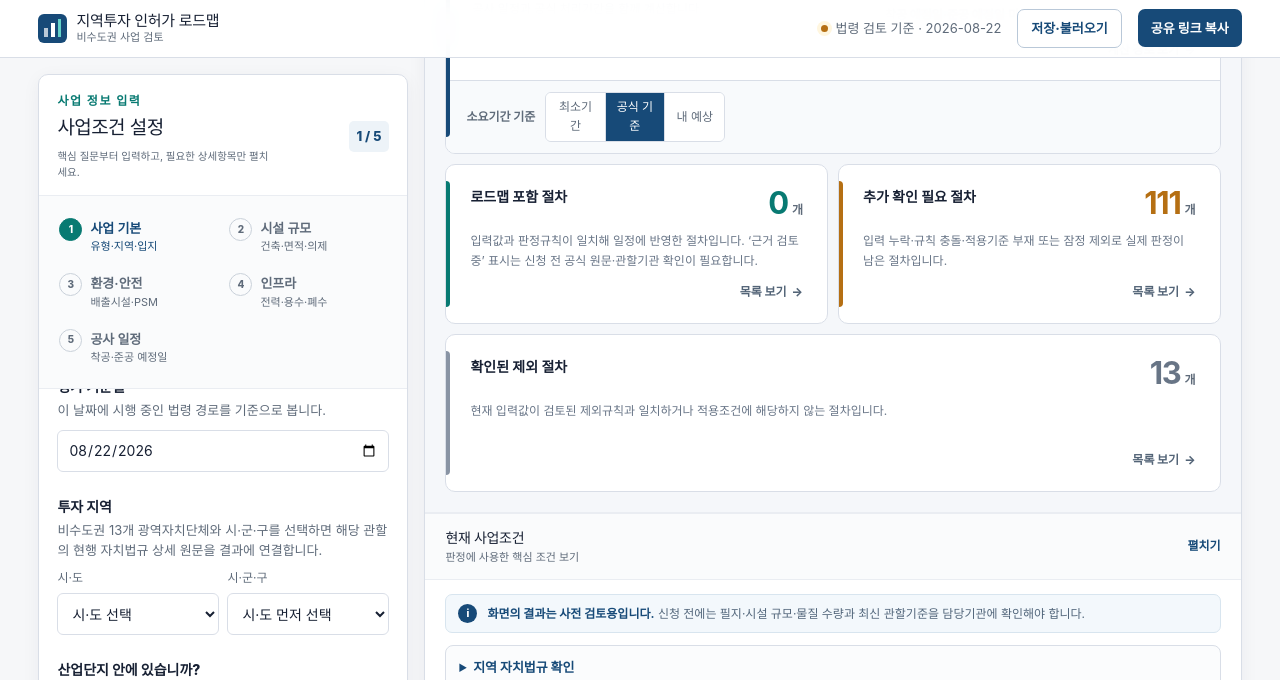
dashboard UI › keeps the current project unchanged when an input-code import fails
The image size is (1280, 680).
(page scrolled)
Select "부산광역시" in the dropdown labelled "시·도" at (138, 614), box [57,593,219,635]
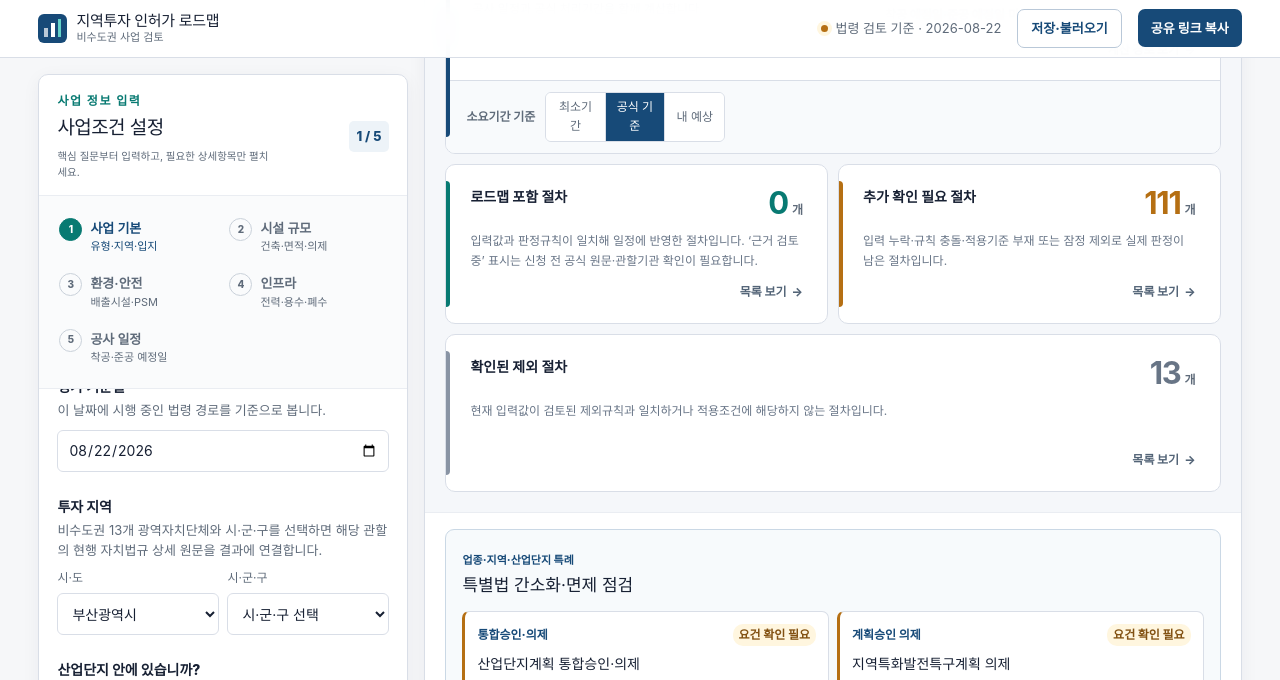
Select "강서구" in the dropdown labelled "시·군·구" at (308, 614), box [227,593,389,635]
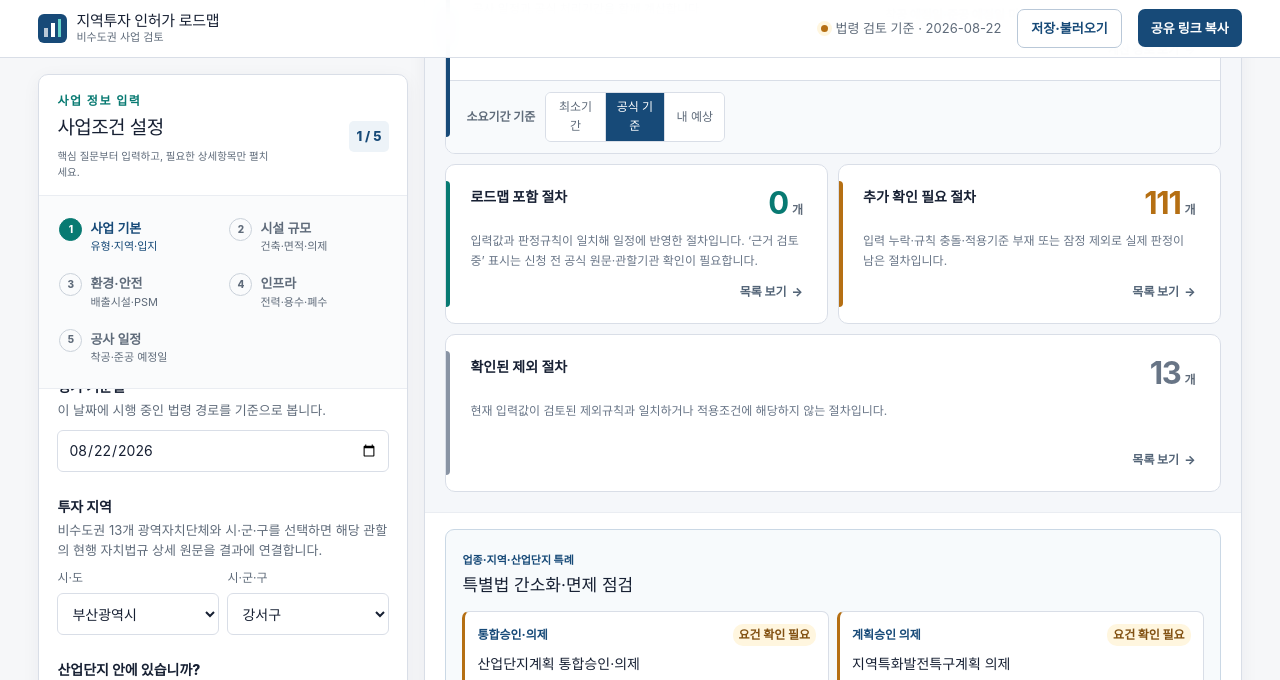
Click the button with aria-label "입력 코드 저장·불러오기" at (1069, 28), box [1017,9,1122,48]
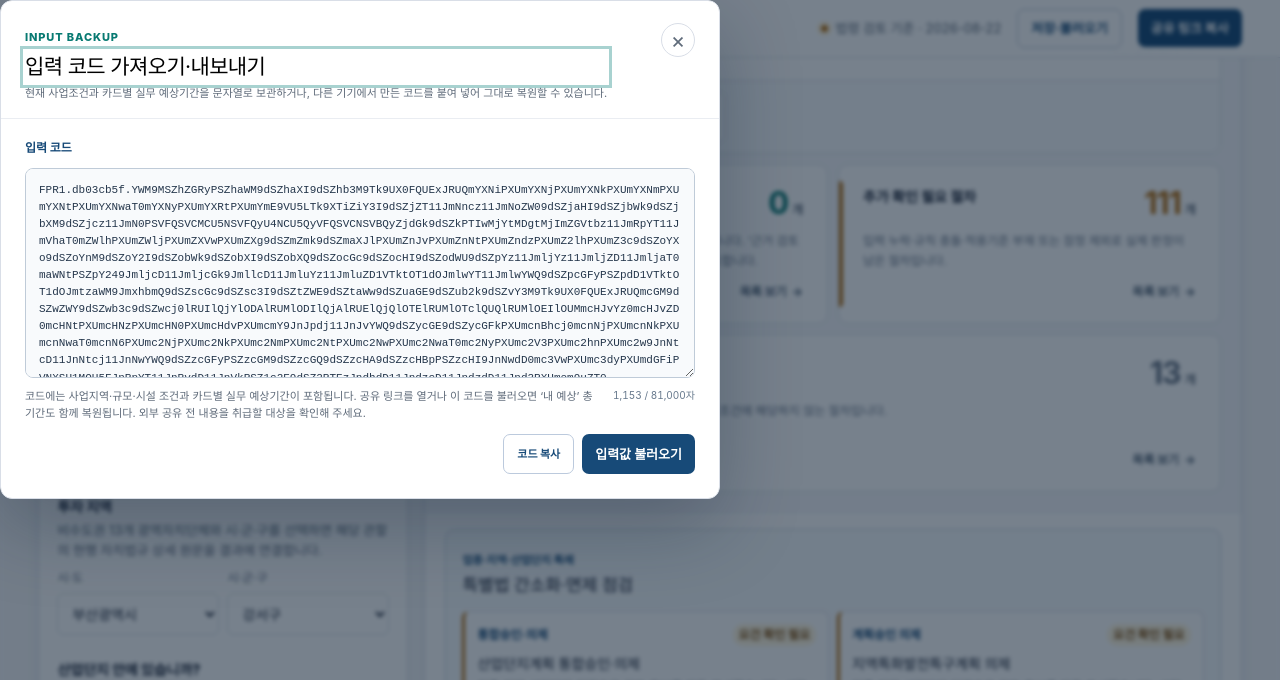
Replace the text in the text box labelled "입력 코드" with "손상된 코드" at (360, 273), box [25,168,695,378]
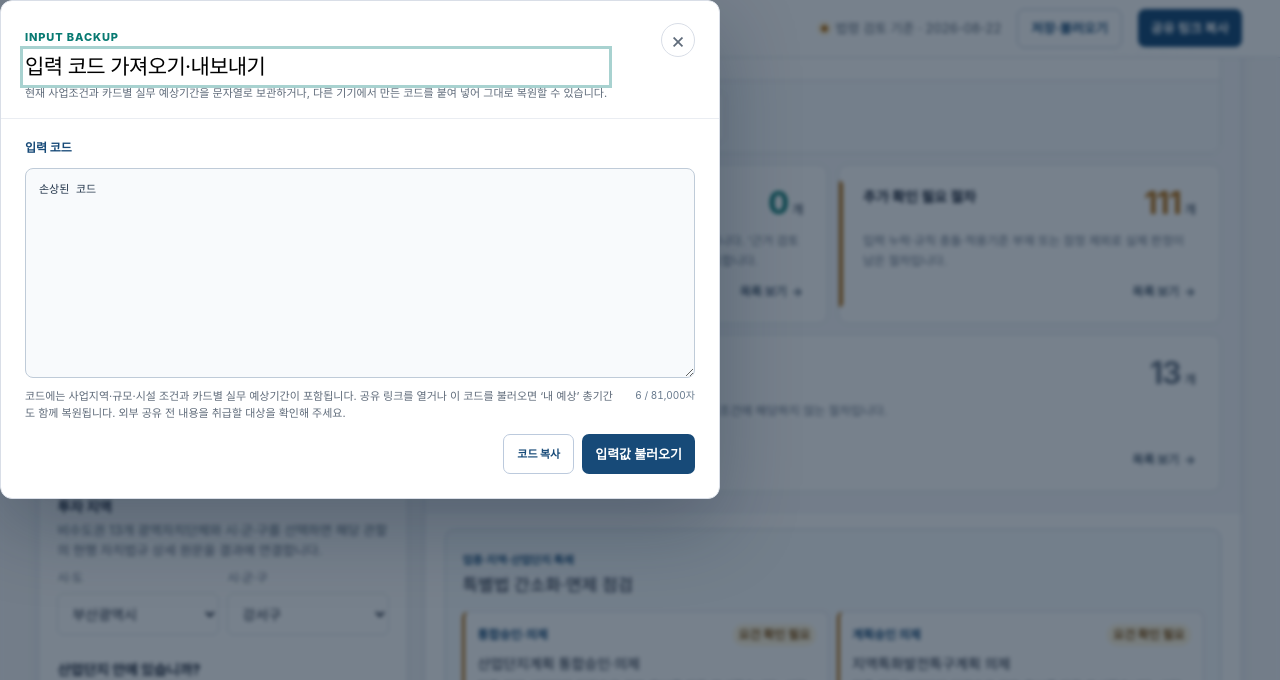
Click the button "입력값 불러오기" at (639, 454), box [582,434,695,474]
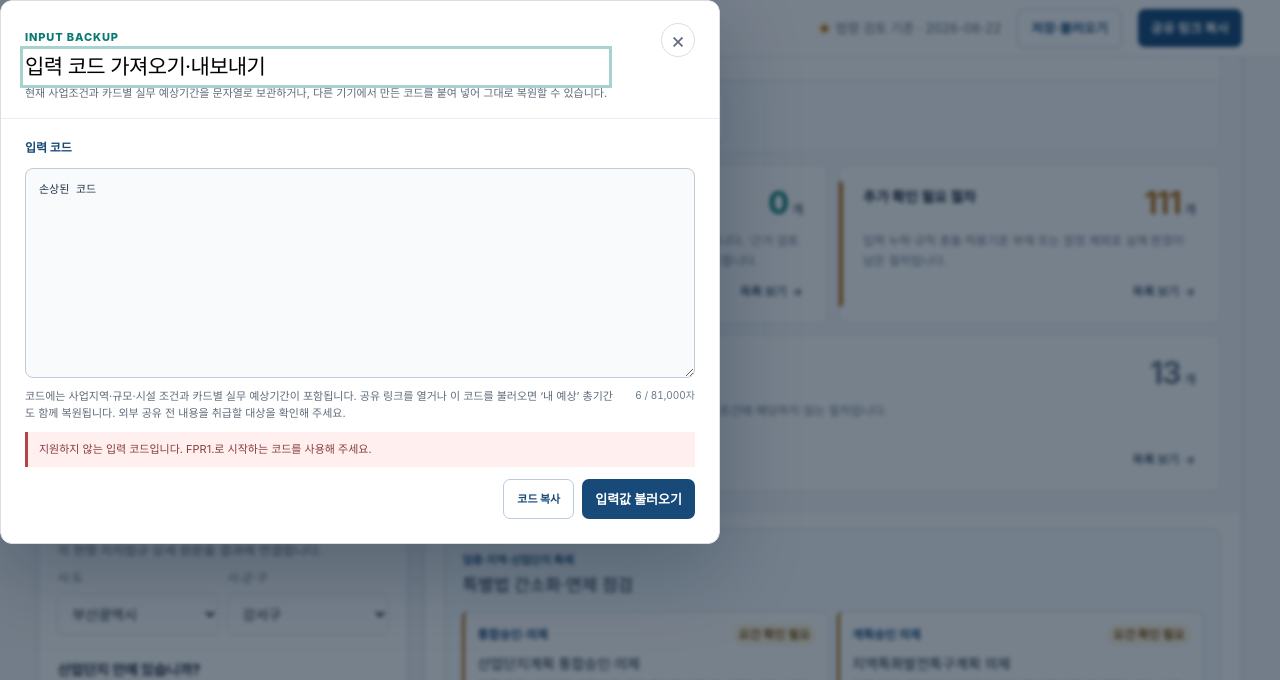
Now the button with aria-label "입력 코드 저장·불러오기" is expanded, box [1017,9,1122,48]
Now the message shows "지원하지 않는 입력 코드", box [39,442,372,456]
